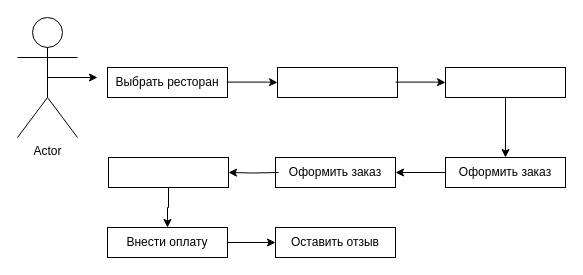
Image size: 583x275. Some labels were removed from this diagram. Here are the shapes that lost their labels. From the top down, the box of each, then its label:
(276, 66, 398, 98): Просмотреть меню
(444, 66, 566, 98): Добавить блюдо в корзину
(108, 156, 228, 188): Отслеживать заказ
